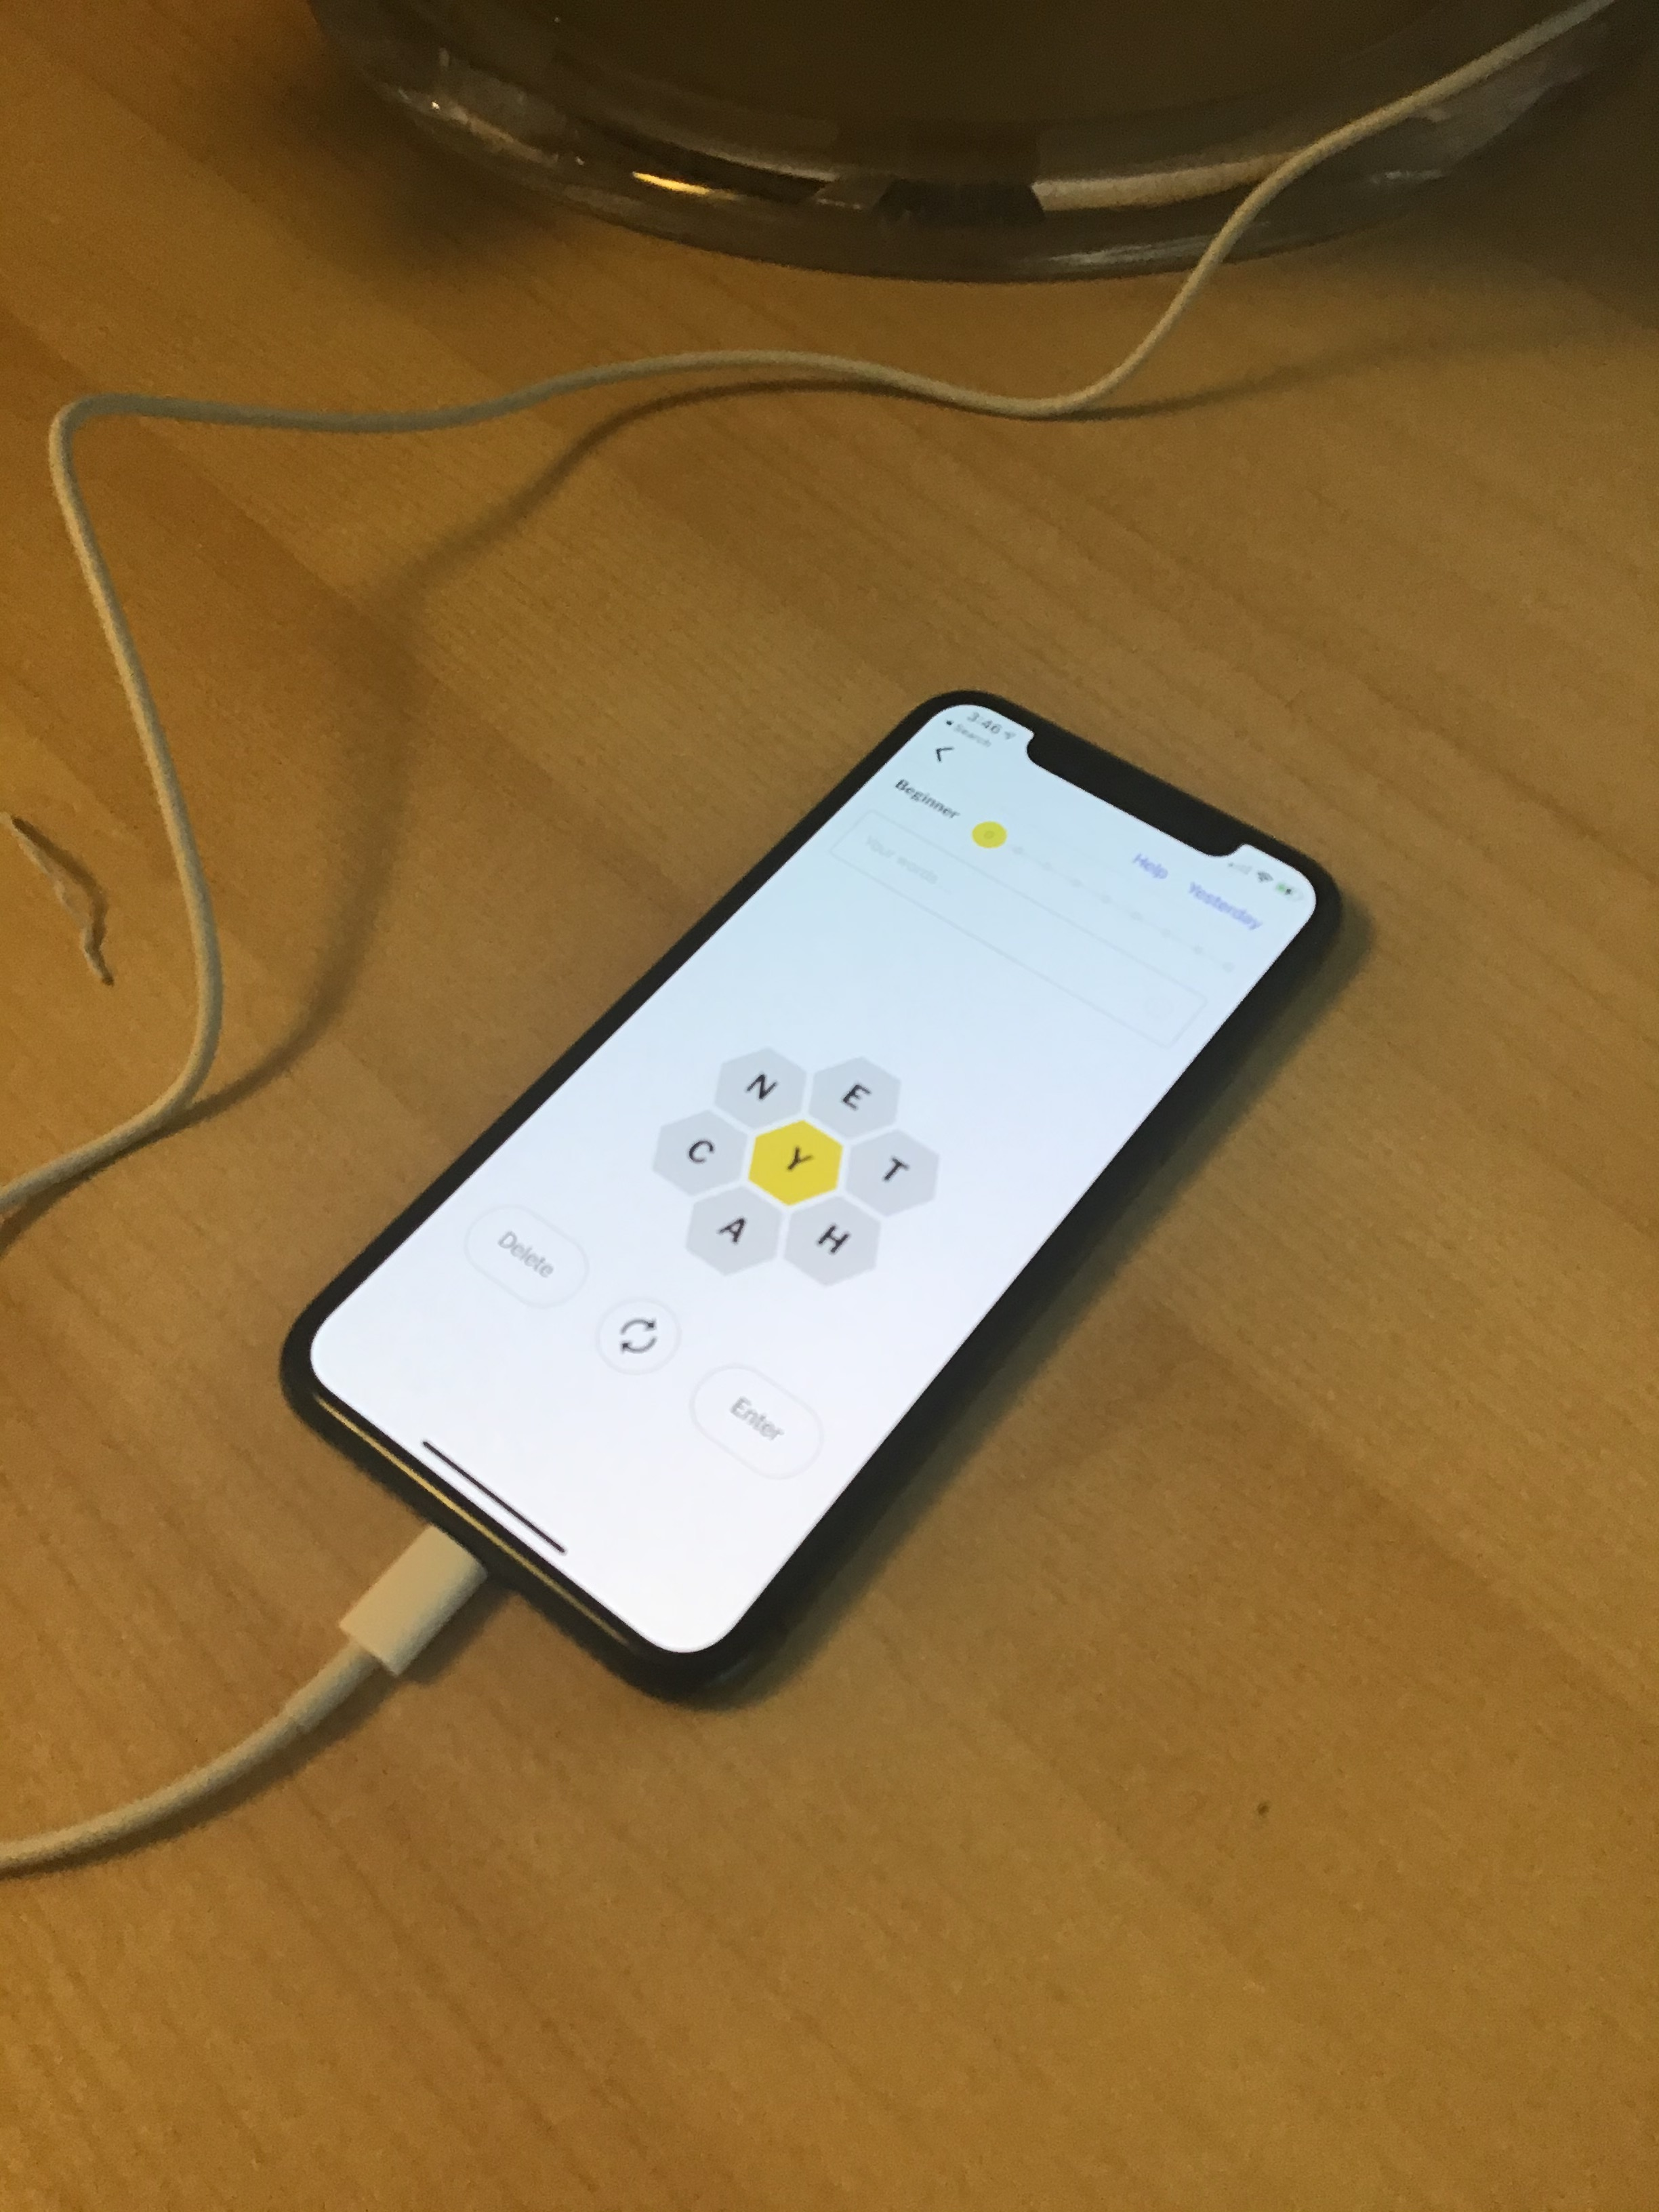Board: (606, 968, 999, 1359)
